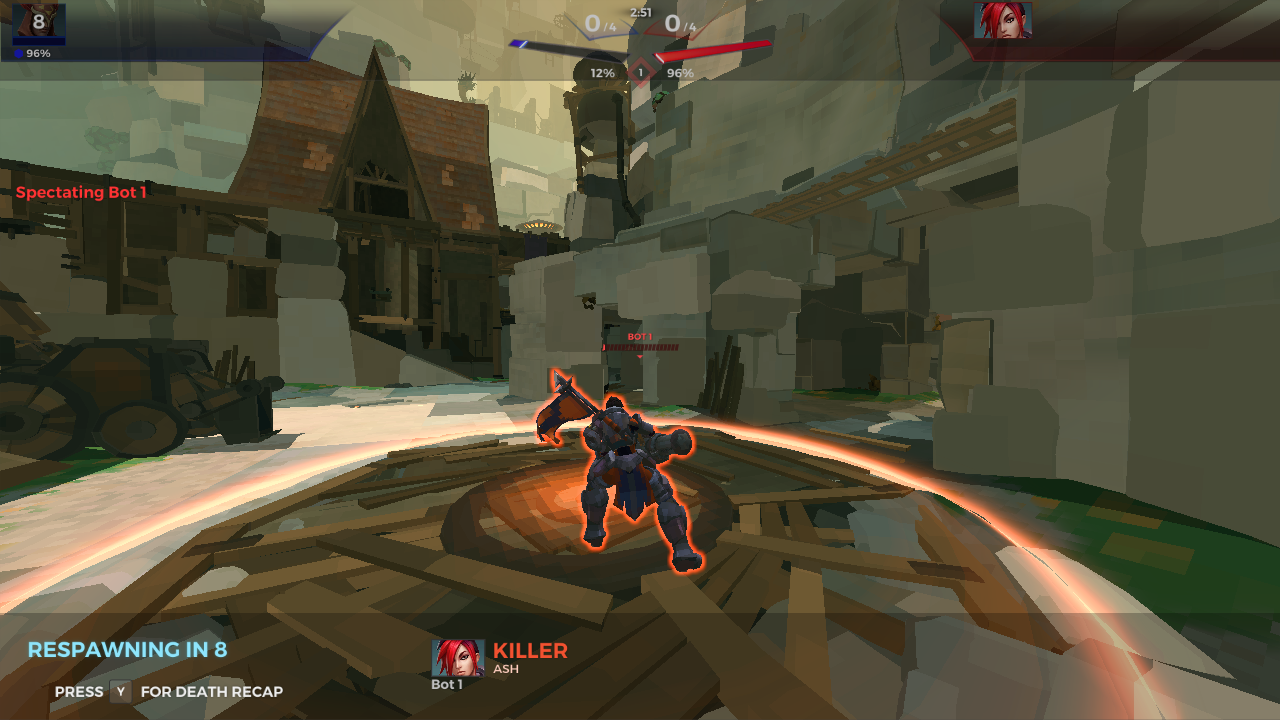model: (528, 357, 719, 584)
